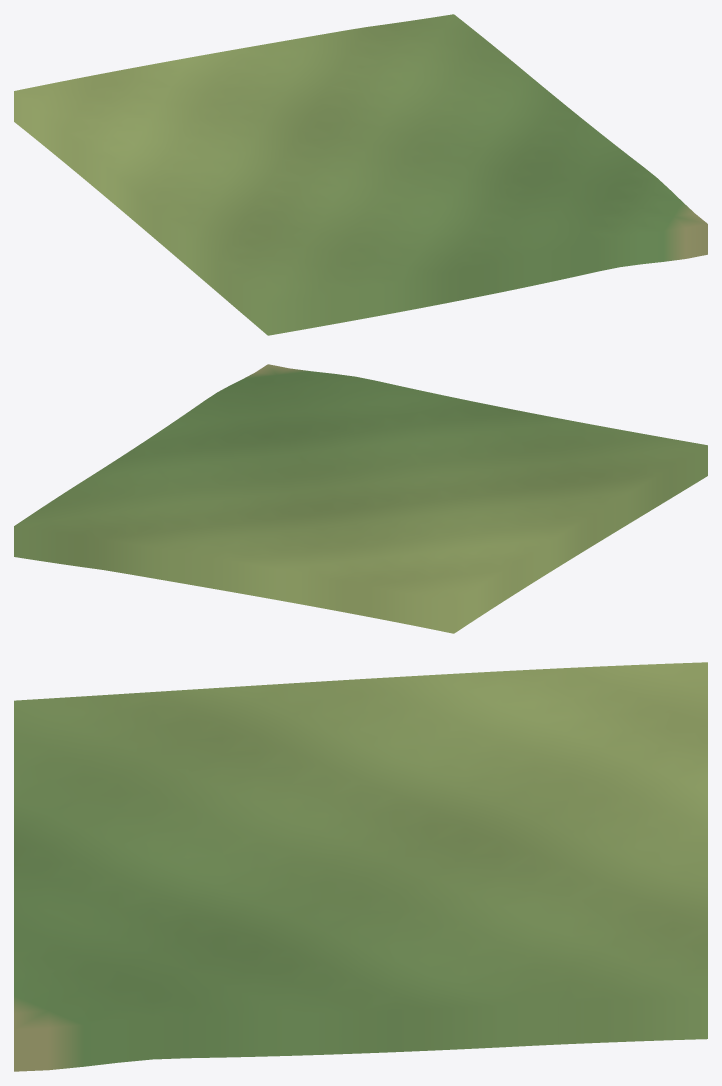
3 views of the same model, one above another, from view 1: azimuth 30°, elevation 25°; view 2: azimuth 150°, elevation 25°; view 3: azimuth 270°, elevation 25° (orthographic). The views are drawn at different scales.
Visible parts, largest first — view 1: terrain; view 2: terrain; view 3: terrain.
Part boxes in pixels (<box>): terrain: <box>14,14,707,335</box>; terrain: <box>14,364,707,633</box>; terrain: <box>14,662,707,1071</box>.
Bounding box in the file's own units: 30 × 5.54 × 30.
